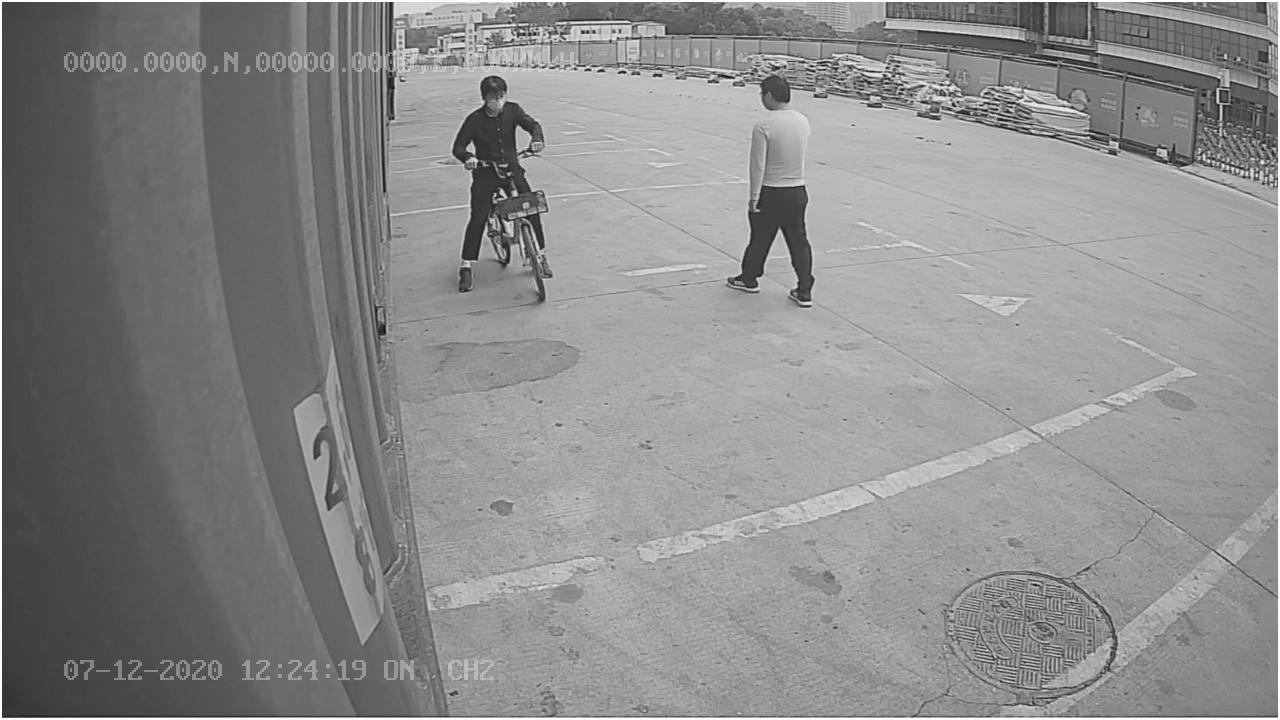person: (723, 73, 818, 312)
